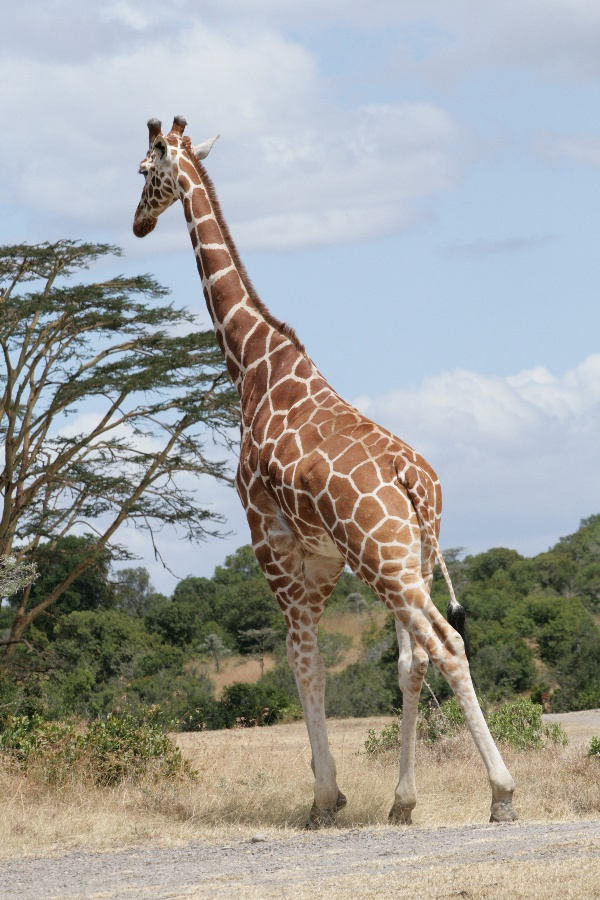giraffe: (124, 107, 525, 827)
